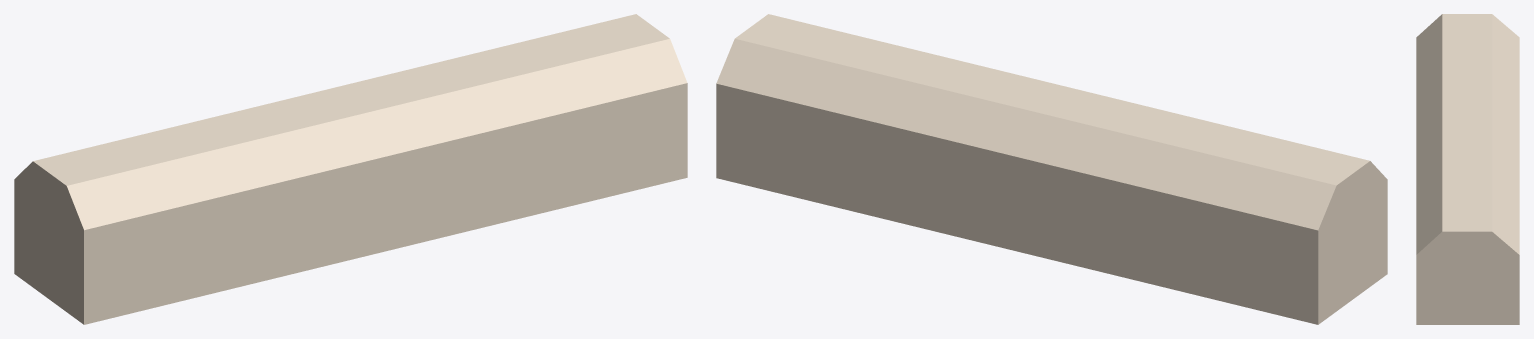
The model's file is Wall_Straight_Coping.glb.
3 renders of one model, left to right at view 1: azimuth 30°, elevation 25°; view 2: azimuth 150°, elevation 25°; view 3: azimuth 270°, elevation 25°, orthographic. The views are drawn at different scales.
Visible parts, largest first — view 1: Wall_Straight_Coping; view 2: Wall_Straight_Coping; view 3: Wall_Straight_Coping.
Part boxes in pixels (box(x1,y1,x2,y2)): Wall_Straight_Coping: box(14, 14, 687, 324); Wall_Straight_Coping: box(716, 14, 1387, 324); Wall_Straight_Coping: box(1416, 14, 1519, 324).
Size of the model in its own units: 0.45 by 0.09 by 0.09.
